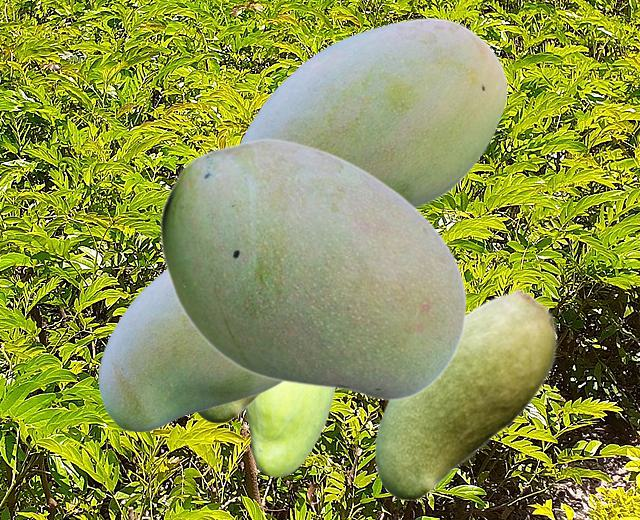green_mango: (159, 137, 466, 400), (238, 18, 507, 208), (374, 288, 556, 499), (98, 269, 283, 430), (245, 383, 335, 476), (195, 394, 263, 422)
